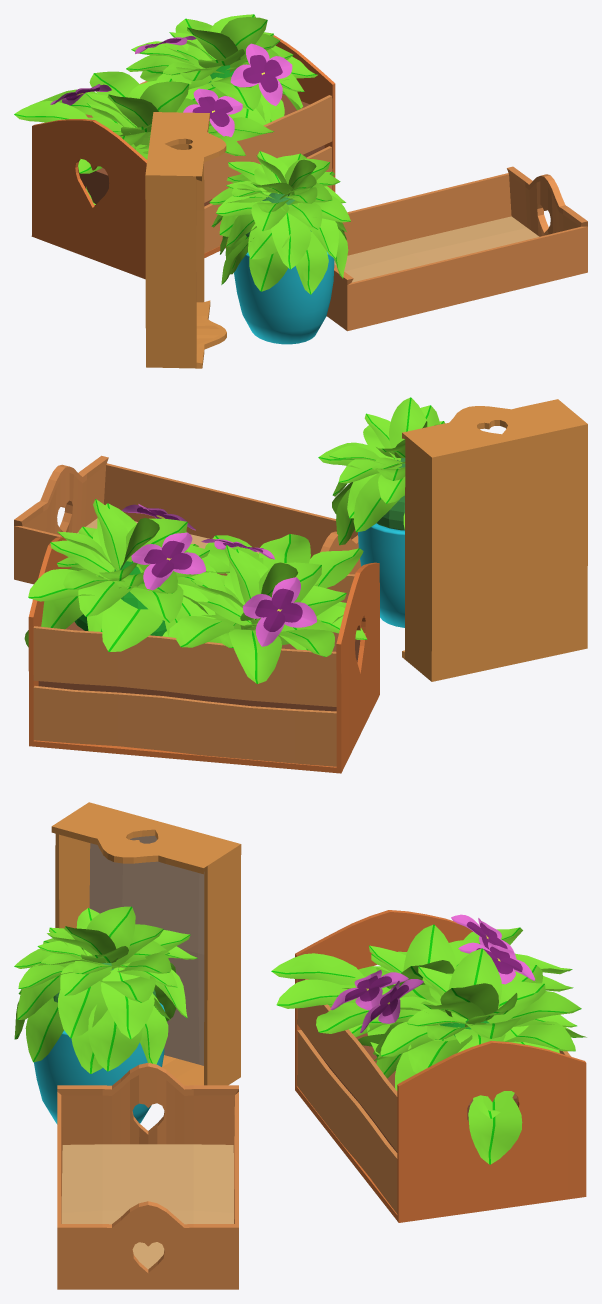
The model's file is FlowerBox.fbx.
3 renders of one model, top to bottom at view 1: azimuth 30°, elevation 25°; view 2: azimuth 150°, elevation 25°; view 3: azimuth 270°, elevation 25°, orthographic. The views are drawn at different scales.
Visible parts, largest first — view 1: FlowerBox; view 2: FlowerBox; view 3: FlowerBox.
Part boxes in pixels (x1,y1,x2,y2): FlowerBox: (14, 14, 587, 368); FlowerBox: (14, 397, 587, 773); FlowerBox: (14, 802, 586, 1289).
Size of the model in its own units: 22.18 by 9.51 by 21.17.
